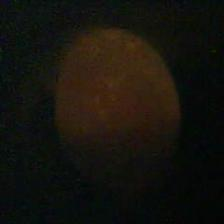fertile: (51, 26, 182, 189)
